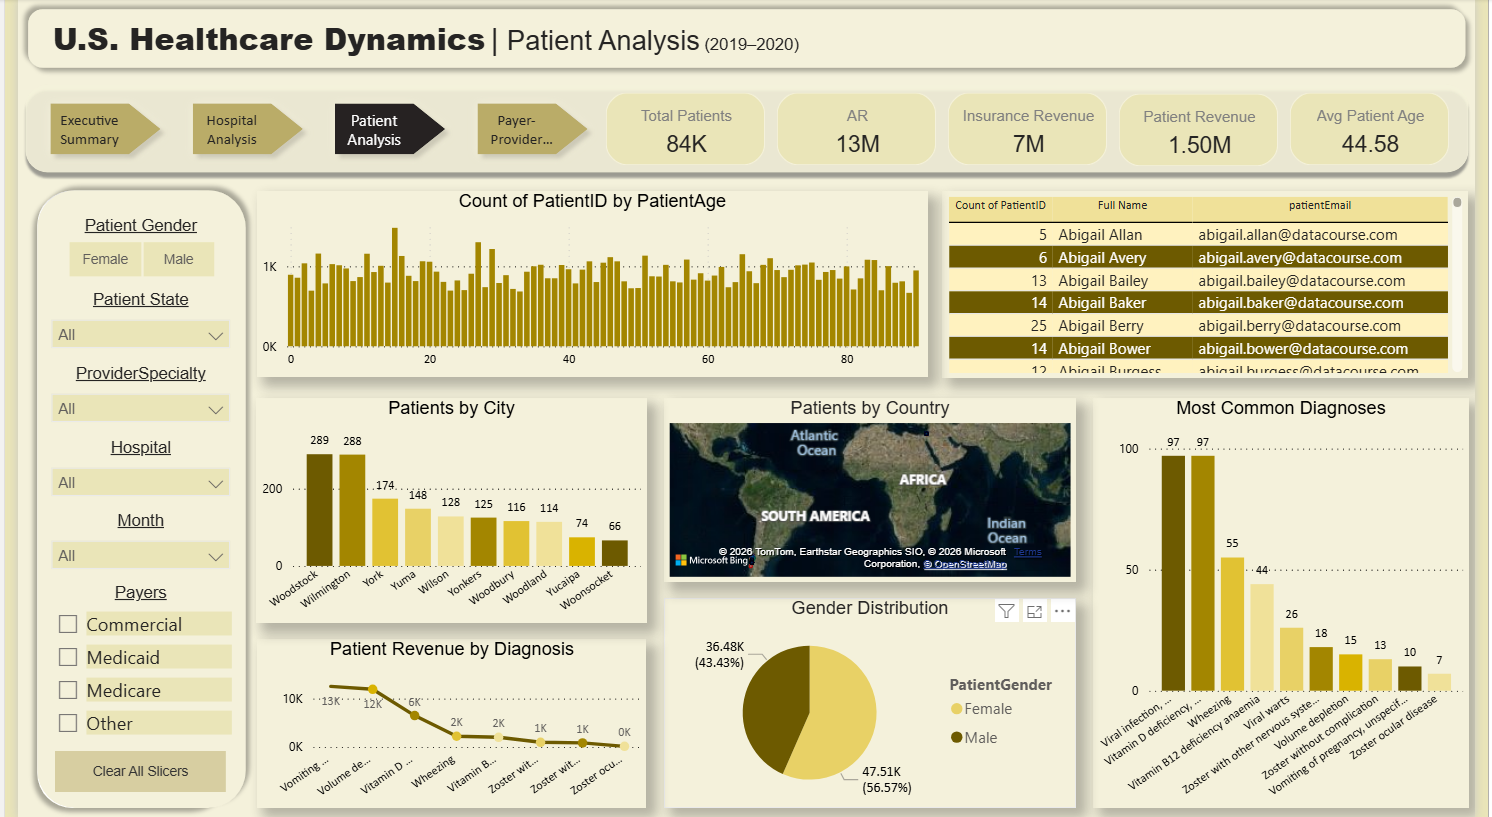

Layout of this report page (visuals, bound fields, positions):
{"tool":"powerbi","page":{"name":"Patient Analysis","canvas":[1280,720],"ordinal":2},"visuals":[{"type":"shape","box":[0,0,1280,69.4],"z":0},{"type":"shape","box":[8,159.2,188.6,560.4],"z":1000},{"type":"shape","box":[8,159.2,201,560.4],"z":2000},{"type":"shape","box":[0,68.5,1280.2,90.4],"z":3000},{"type":"cardVisual","title":"Total Patients","fields":{"Data":["Healthcare_dataset.Total Patients"]},"box":[511,79,150.1,70.2],"z":4000},{"type":"cardVisual","fields":{"Data":["Healthcare_dataset.Total Revenue"]},"box":[661.2,79,150.1,70.2],"z":5000},{"type":"cardVisual","fields":{"Data":["Healthcare_dataset.Insurance Revenue"]},"box":[811.3,79,150.1,70.2],"z":6000},{"type":"cardVisual","fields":{"Data":["Healthcare_dataset.Patient Revenue"]},"box":[961.5,79.9,150.1,70.2],"z":7000},{"type":"cardVisual","fields":{"Data":["Healthcare_dataset.Avg Patient Age"]},"box":[1111.6,79,150.1,70.2],"z":8000},{"type":"shape","box":[0,0,1280,69.3],"z":9000},{"type":"textbox","box":[25.8,10.7,773.3,47.1],"z":10000},{"type":"pageNavigator","box":[19.6,82.7,491.9,63.2],"z":11000},{"type":"actionButton","box":[32.9,660,150.3,36.5],"z":12000},{"type":"slicer","title":"Patient Gender","fields":{"Values":["Healthcare_dataset.PatientGender"]},"box":[19.6,190.4,177,59.6],"z":13000},{"type":"slicer","title":"Patient State","fields":{"Values":["Healthcare_dataset.patientState"]},"box":[19.6,255.3,177,60.5],"z":14000},{"type":"slicer","title":"ProviderSpecialty","fields":{"Values":["Healthcare_dataset.ProviderSpecialty"]},"box":[19.6,320.2,177,59.6],"z":15000},{"type":"slicer","title":"Hospital","fields":{"Values":["Healthcare_dataset.Hospital name "]},"box":[19.6,385.2,177,59.6],"z":16000},{"type":"slicer","title":"Month","fields":{"Values":["Healthcare_dataset.Month Name"]},"box":[19.6,449.2,177,59.6],"z":17000},{"type":"slicer","title":"Payers","fields":{"Values":["Healthcare_dataset.PayerName"]},"box":[23.1,512.4,169.9,141.4],"z":18000},{"type":"clusteredColumnChart","fields":{"Y":["CountNonNull(Healthcare_dataset.PatientID)"],"Category":["Healthcare_dataset.PatientAge"]},"box":[209.9,168.6,589.2,163.3],"z":19000},{"type":"pieChart","title":"Gender Distribution","fields":{"Category":["Healthcare_dataset.PatientGender"],"Y":["CountNonNull(Healthcare_dataset.PatientID)"]},"box":[567.2,526,361.8,184.4],"z":20000},{"type":"map","title":"Patients by Country","fields":{"Category":["Healthcare_dataset.PatientID"],"Series":["Healthcare_dataset.patientState"]},"box":[567.2,350.3,361.8,162.4],"z":21000},{"type":"clusteredColumnChart","title":"Most Common Diagnoses","fields":{"Category":["Healthcare_dataset.DiagnosisCodeDescription"],"Y":["CountNonNull(Healthcare_dataset.PatientID)"]},"box":[943.9,350.3,330.1,360],"z":22000},{"type":"clusteredColumnChart","title":"Patients by City","fields":{"Category":["Healthcare_dataset.patientCity"],"Y":["CountNonNull(Healthcare_dataset.PatientID)"]},"box":[209,350.3,343.3,198.4],"z":23000},{"type":"tableEx","fields":{"Values":["CountNonNull(Healthcare_dataset.PatientID)","Healthcare_dataset.Full Name","Healthcare_dataset.patientEmail"]},"box":[811.4,168.8,462.4,163.5],"z":24000},{"type":"lineChart","title":"Patient Revenue by Diagnosis","fields":{"Category":["Healthcare_dataset.DiagnosisCodeDescription"],"Y":["Healthcare_dataset.AR"]},"box":[209.9,562,342.4,148.4],"z":25000}]}

Visuals, with their boxes in screenshot pixels (x1, y1, x2, y2), scaled from the page's 1280x720 canvas onto the 1492x817 screenshot:
shape: {"left": 0, "top": 0, "right": 1491, "bottom": 79}
shape: {"left": 9, "top": 181, "right": 229, "bottom": 816}
shape: {"left": 9, "top": 181, "right": 244, "bottom": 816}
shape: {"left": 0, "top": 78, "right": 1491, "bottom": 180}
"Total Patients" cardVisual: {"left": 596, "top": 90, "right": 771, "bottom": 169}
cardVisual - Healthcare_dataset.Total Revenue: {"left": 771, "top": 90, "right": 946, "bottom": 169}
cardVisual - Healthcare_dataset.Insurance Revenue: {"left": 946, "top": 90, "right": 1121, "bottom": 169}
cardVisual - Healthcare_dataset.Patient Revenue: {"left": 1121, "top": 91, "right": 1296, "bottom": 170}
cardVisual - Healthcare_dataset.Avg Patient Age: {"left": 1296, "top": 90, "right": 1471, "bottom": 169}
shape: {"left": 0, "top": 0, "right": 1491, "bottom": 79}
textbox: {"left": 30, "top": 12, "right": 931, "bottom": 66}
pageNavigator: {"left": 23, "top": 94, "right": 596, "bottom": 166}
actionButton: {"left": 38, "top": 749, "right": 214, "bottom": 790}
"Patient Gender" slicer: {"left": 23, "top": 216, "right": 229, "bottom": 284}
"Patient State" slicer: {"left": 23, "top": 290, "right": 229, "bottom": 358}
"ProviderSpecialty" slicer: {"left": 23, "top": 363, "right": 229, "bottom": 431}
"Hospital" slicer: {"left": 23, "top": 437, "right": 229, "bottom": 505}
"Month" slicer: {"left": 23, "top": 510, "right": 229, "bottom": 577}
"Payers" slicer: {"left": 27, "top": 581, "right": 225, "bottom": 742}
clusteredColumnChart - CountNonNull(Healthcare_dataset.PatientID) x Healthcare_dataset.PatientAge: {"left": 245, "top": 191, "right": 931, "bottom": 377}
"Gender Distribution" pieChart: {"left": 661, "top": 597, "right": 1083, "bottom": 806}
"Patients by Country" map: {"left": 661, "top": 397, "right": 1083, "bottom": 582}
"Most Common Diagnoses" clusteredColumnChart: {"left": 1100, "top": 397, "right": 1485, "bottom": 806}
"Patients by City" clusteredColumnChart: {"left": 244, "top": 397, "right": 644, "bottom": 623}
tableEx - CountNonNull(Healthcare_dataset.PatientID) x Healthcare_dataset.Full Name: {"left": 946, "top": 192, "right": 1485, "bottom": 377}
"Patient Revenue by Diagnosis" lineChart: {"left": 245, "top": 638, "right": 644, "bottom": 806}
